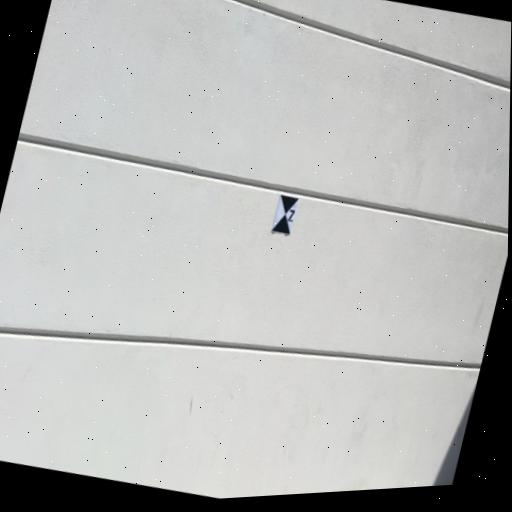target7: (271, 194, 300, 236)
